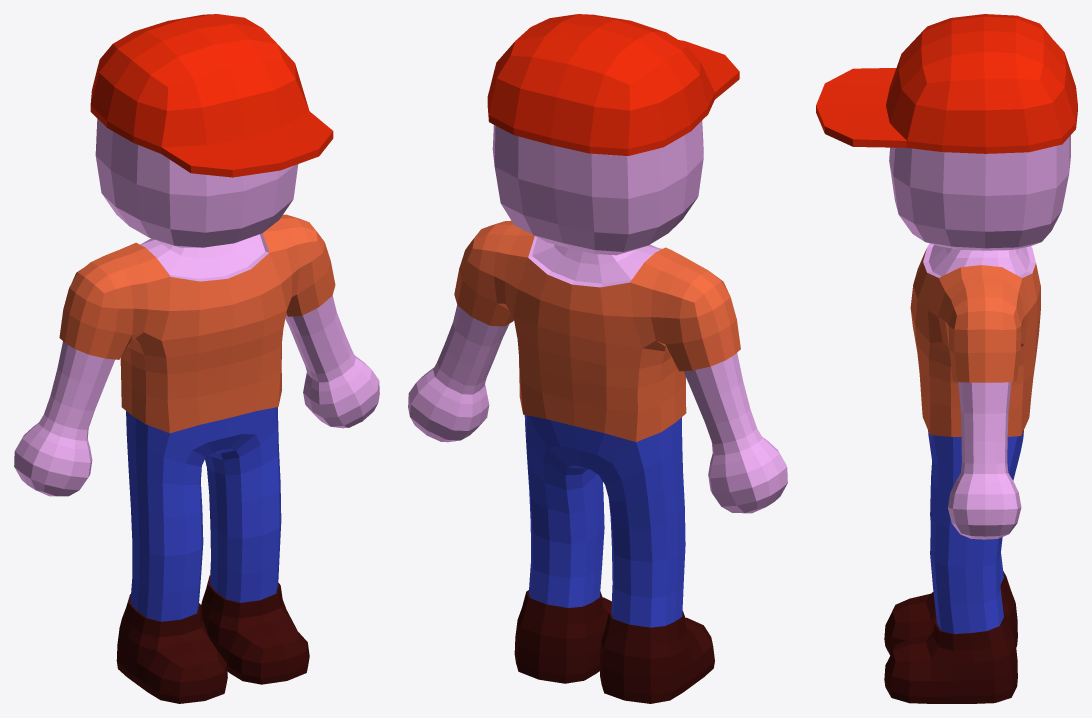
File: Player.fbx
The picture shows the model from 3 angles, left to right: view 1: azimuth 30°, elevation 25°; view 2: azimuth 150°, elevation 25°; view 3: azimuth 270°, elevation 25°; orthographic projection. The views are drawn at different scales.
Parts seen in each view (by area): view 1: Child_Player; view 2: Child_Player; view 3: Child_Player.
Part boxes in pixels (box(x1,y1,x2,y2)): Child_Player: box(14, 14, 379, 703); Child_Player: box(408, 14, 787, 703); Child_Player: box(816, 14, 1077, 703).
Bounding box in the file's own units: 103 × 176 × 65.62.
